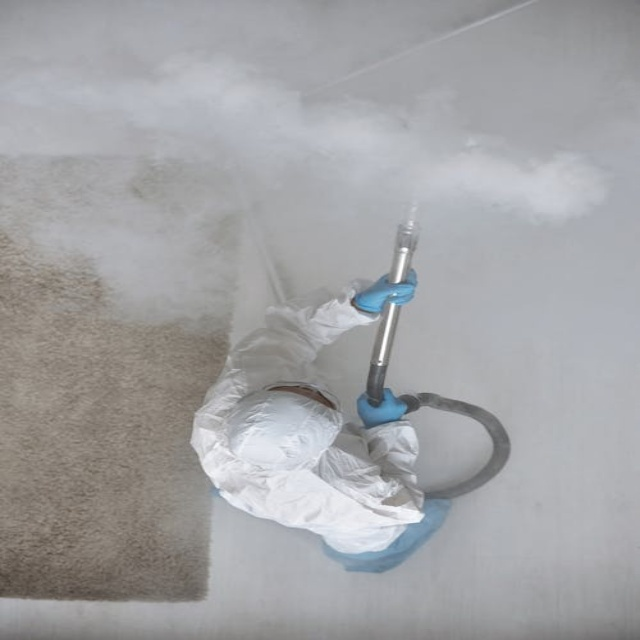Guantes: (353, 266, 418, 314), (357, 386, 409, 428)
